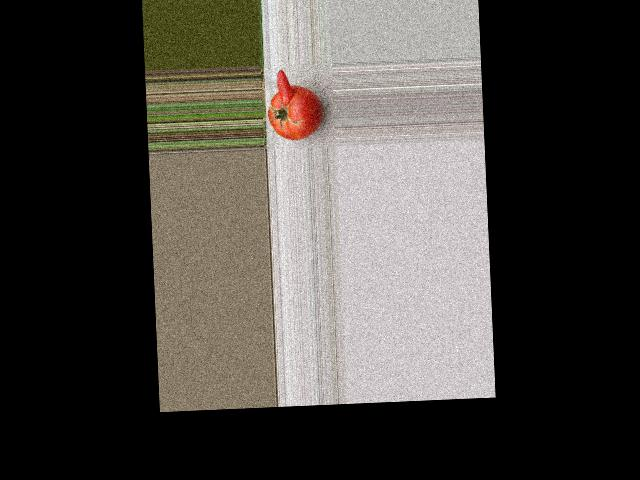tomato: (267, 84, 322, 142)
